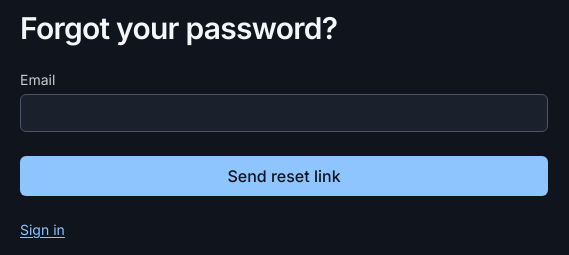
Test: ForgotPasswordForm › shows the same success copy on 202
This screenshot has width=569, height=255.
Type "minh@example.com" into the field labelled "Email" at (284, 113), box x1=20 y1=94 x2=548 y2=132
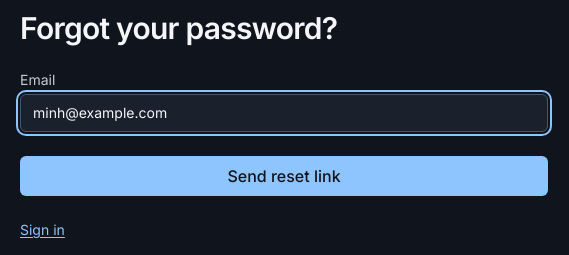
Click the button "Send reset link" at (284, 176), box x1=20 y1=156 x2=548 y2=196
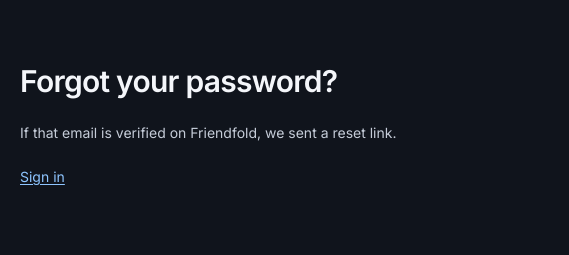
Expected: the message reads "If that email is verified on Friendfold, we sent a reset link.", x1=20 y1=124 x2=396 y2=141
